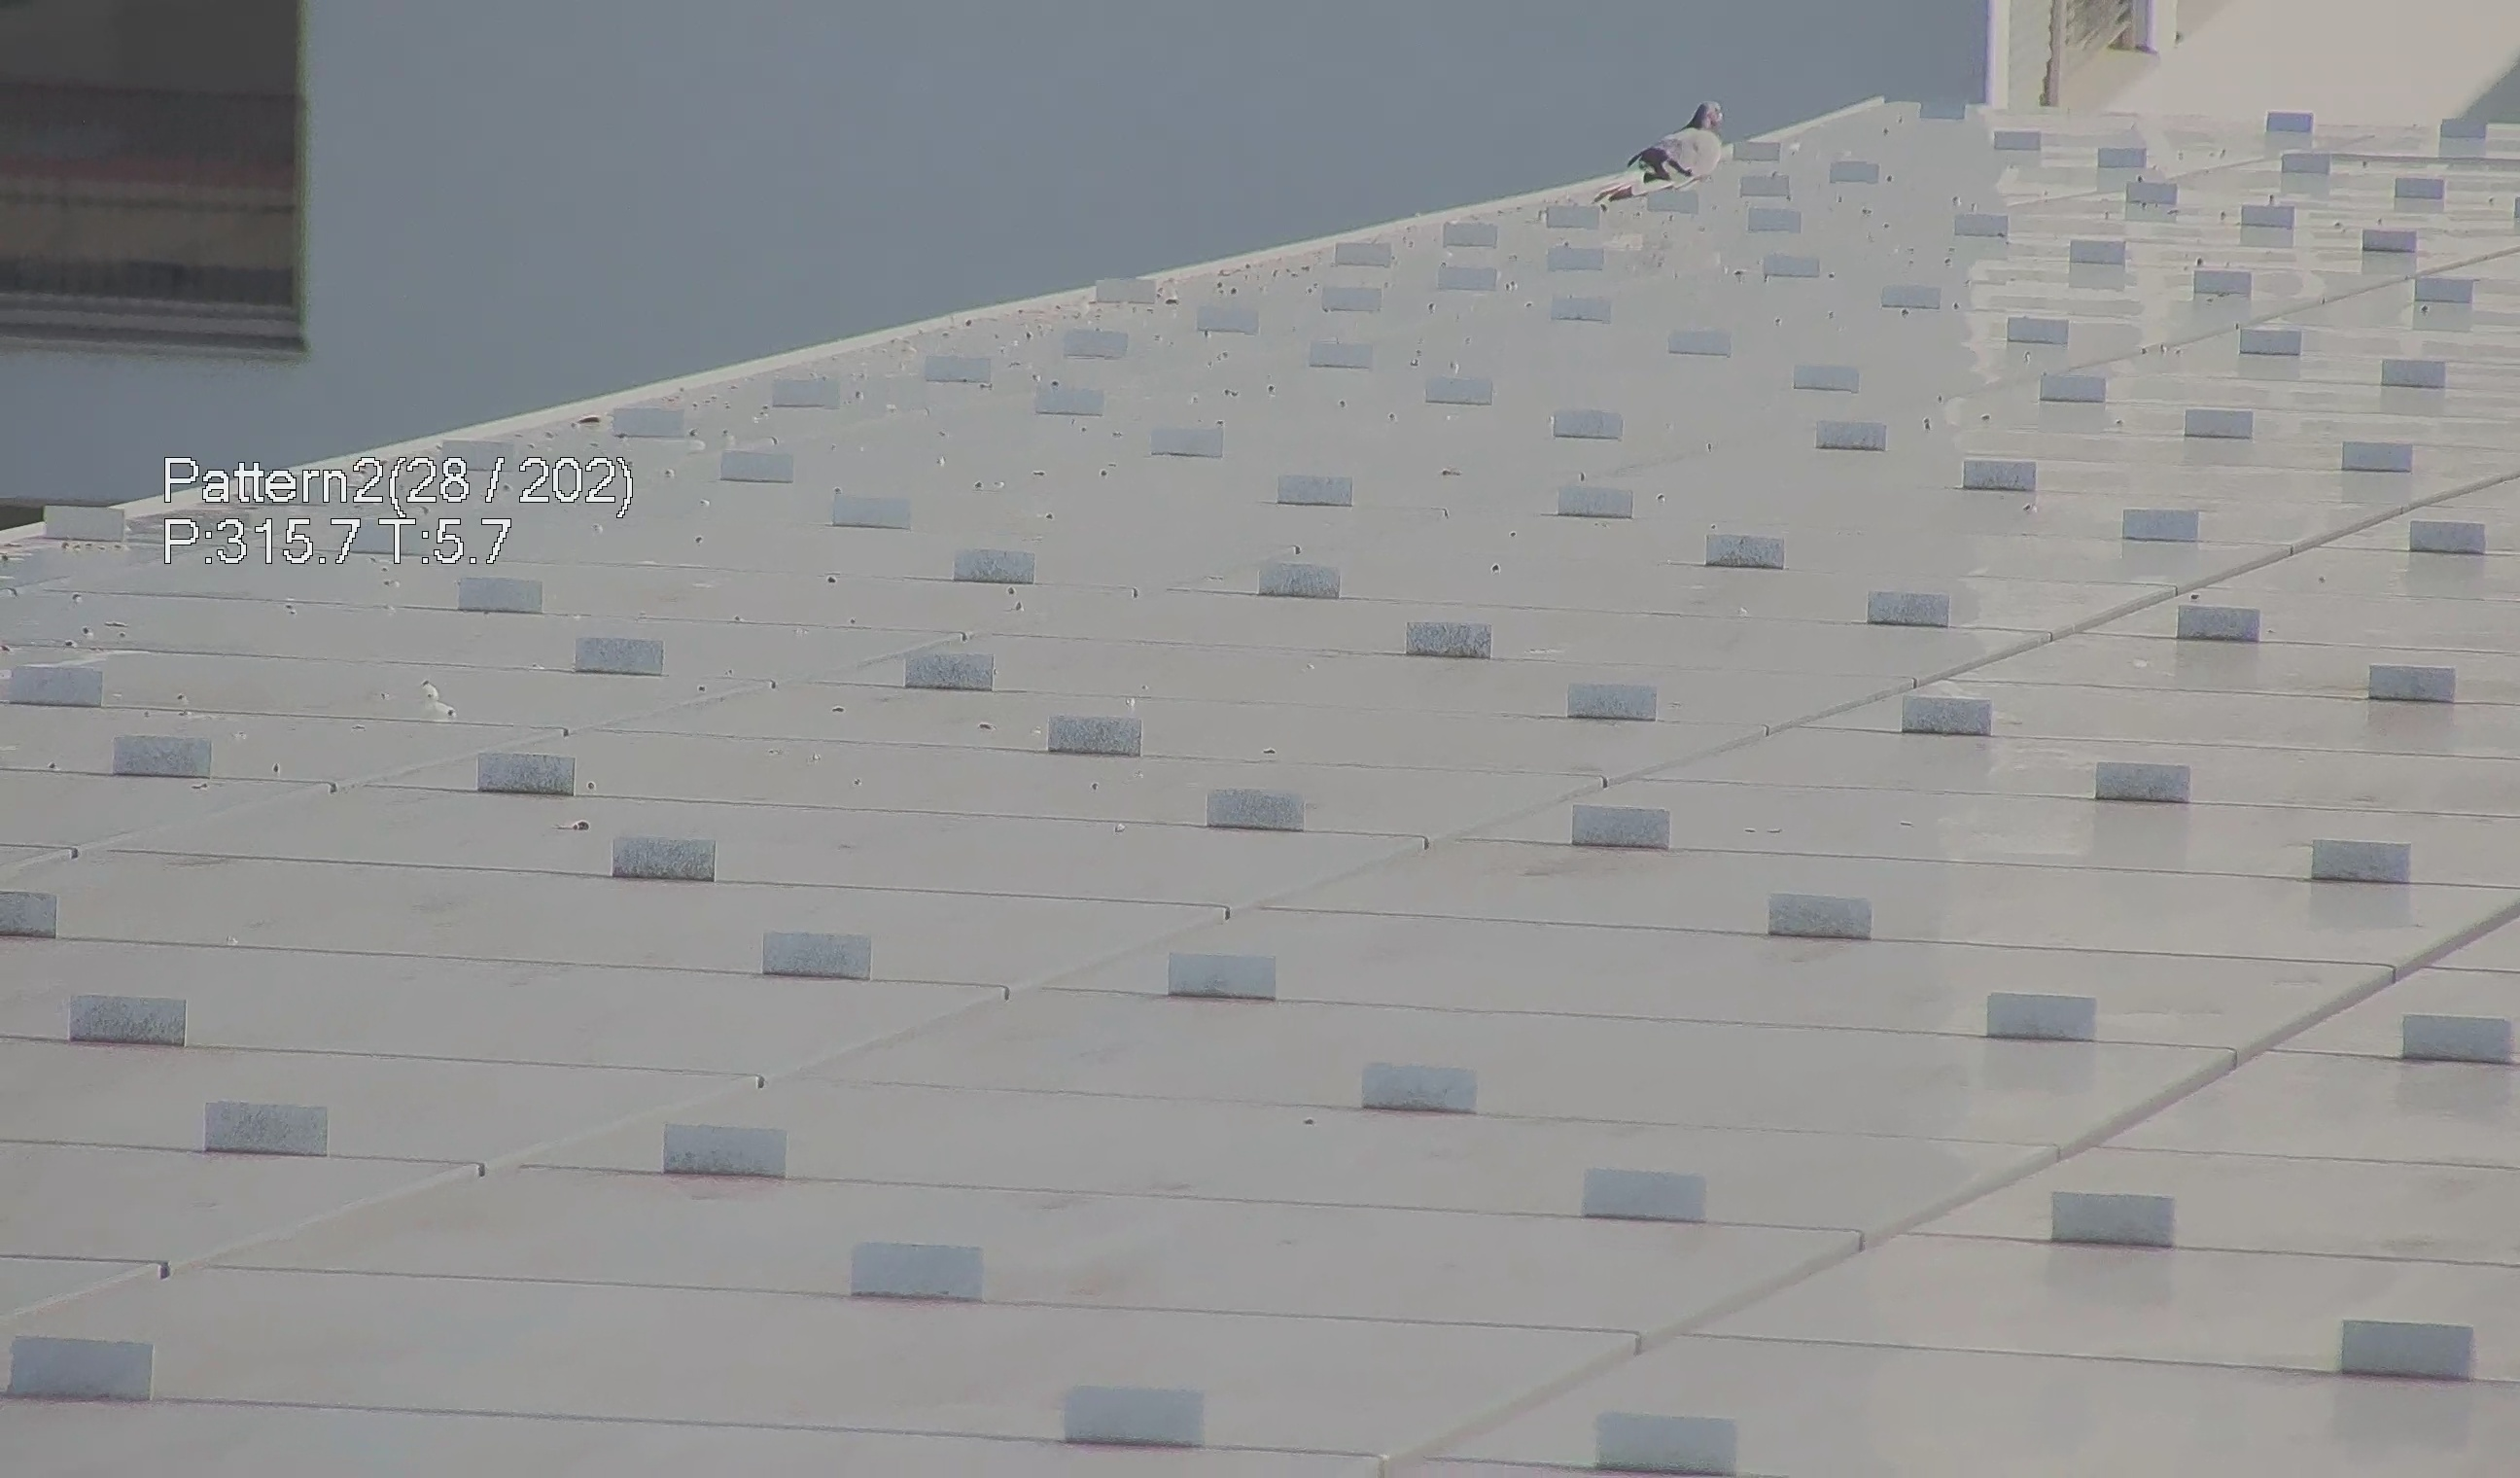Pigeon: (1597, 83, 1746, 211)
